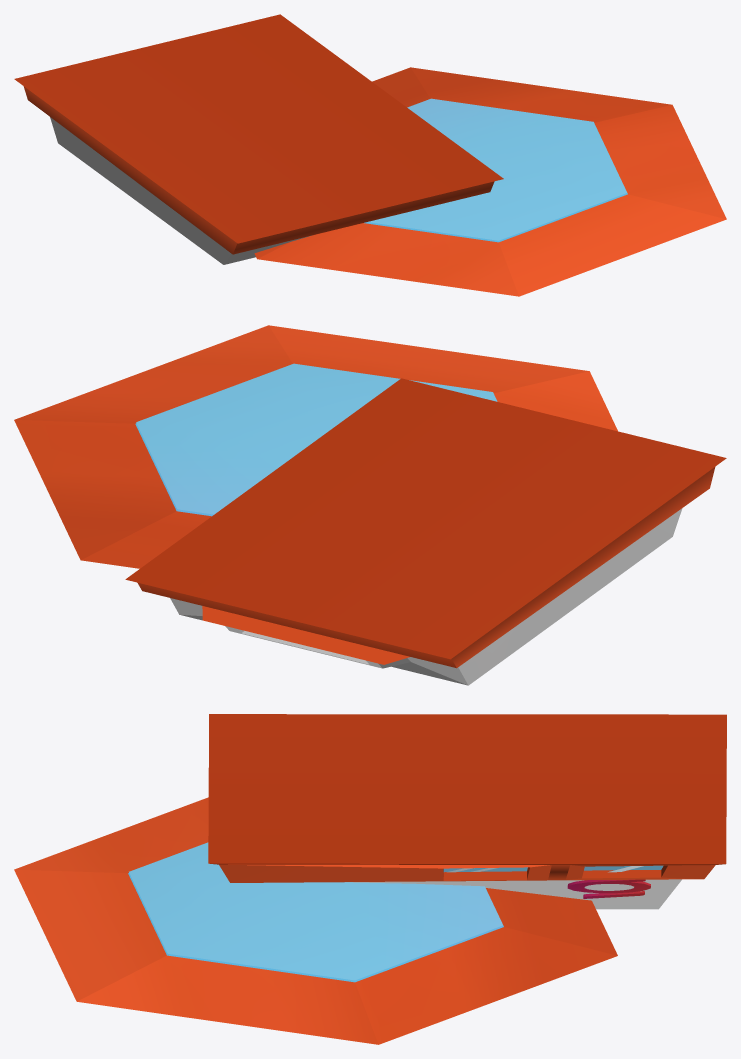
The model's file is HOUSE_LV2.FBX.
The picture shows the model from 3 angles, top to bottom: view 1: azimuth 30°, elevation 25°; view 2: azimuth 150°, elevation 25°; view 3: azimuth 270°, elevation 25°; orthographic projection. The views are drawn at different scales.
Visible parts, largest first — view 1: LV_2; view 2: LV_2; view 3: LV_2.
Part boxes in pixels (<box>): LV_2: <box>14,14,726,296</box>; LV_2: <box>14,325,726,685</box>; LV_2: <box>14,714,726,1044</box>.
Size of the model in its own units: 23.99 by 5.04 by 25.29.
Materials: 1 (1 with a texture image).
